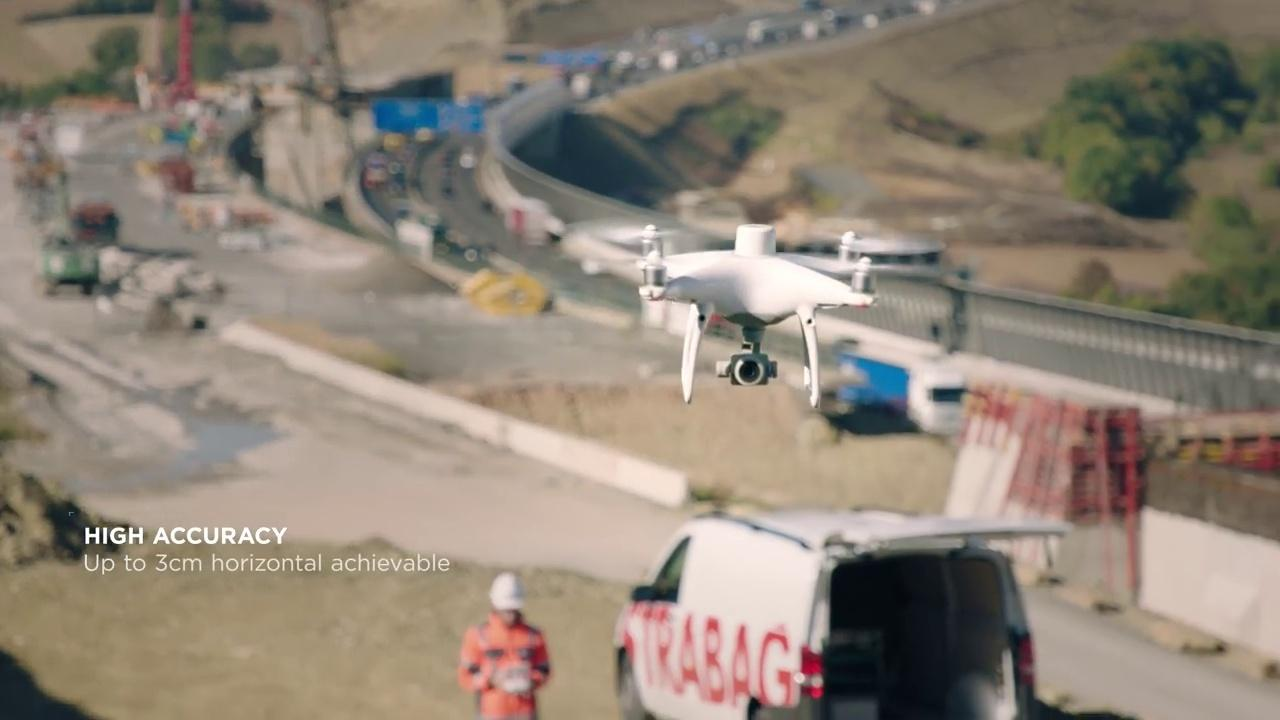drone: (564, 216, 946, 407)
